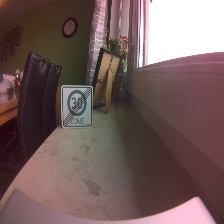dreisiger_zone_ende: (59, 85, 93, 128)
